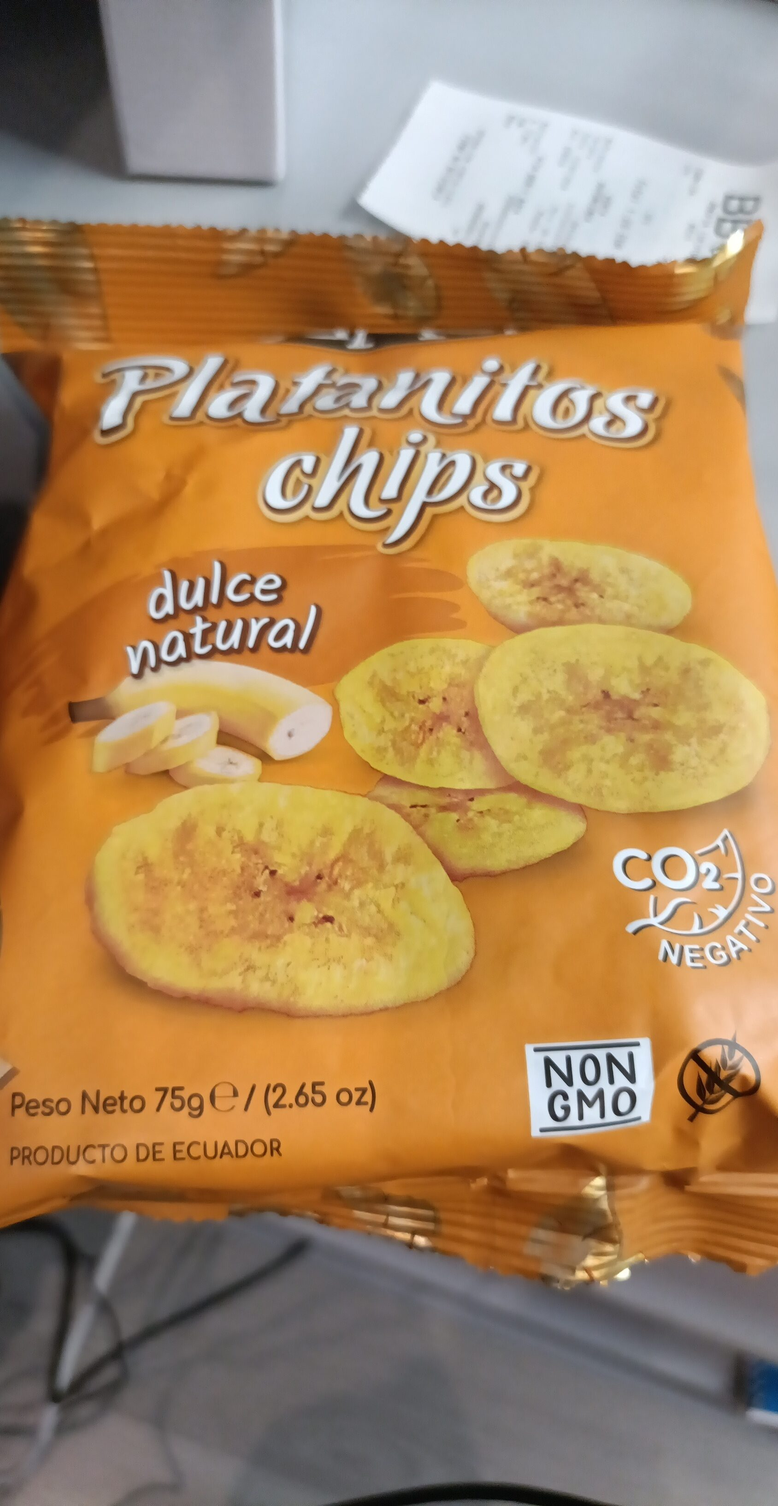Plantain Chips Naturally Sweet: (39, 75, 739, 1431)
